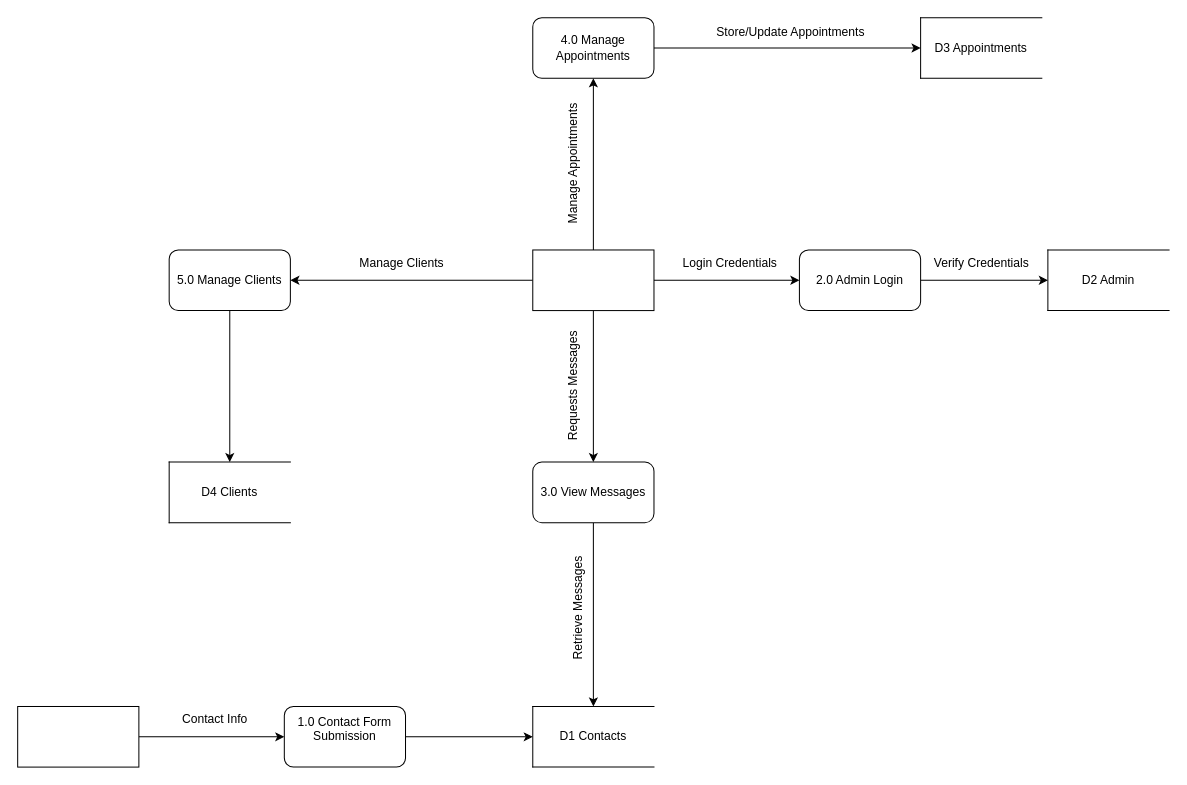
Image size: 1187x785. Some labels were removed from this diagram. Each missing label, with the centre of its shape:
Admin: the point at 593,280
User: the point at 78,736
